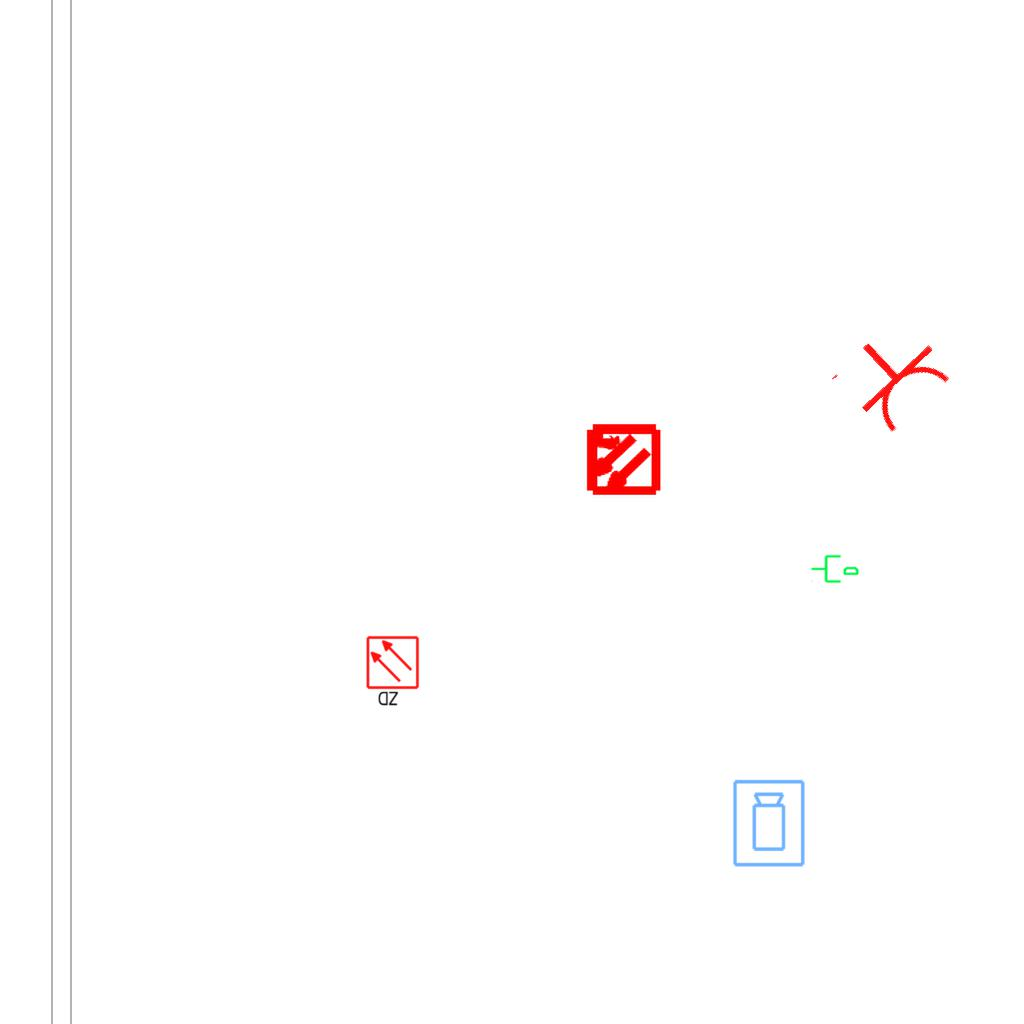Datenanschluss_einfach: (810, 551, 860, 585)
KFO_Kamera_mit_Festobjektiv: (731, 778, 808, 869)
OT_Multisensormelder_(Kombination_RMO_WMD): (565, 403, 678, 516)
Schukosteckdose_einfach: (826, 311, 959, 443)
ZD_Melder_in_Zwischendecke_mit_Revisionsoeffnung_mind_40_x_40_cm: (365, 635, 422, 709)
